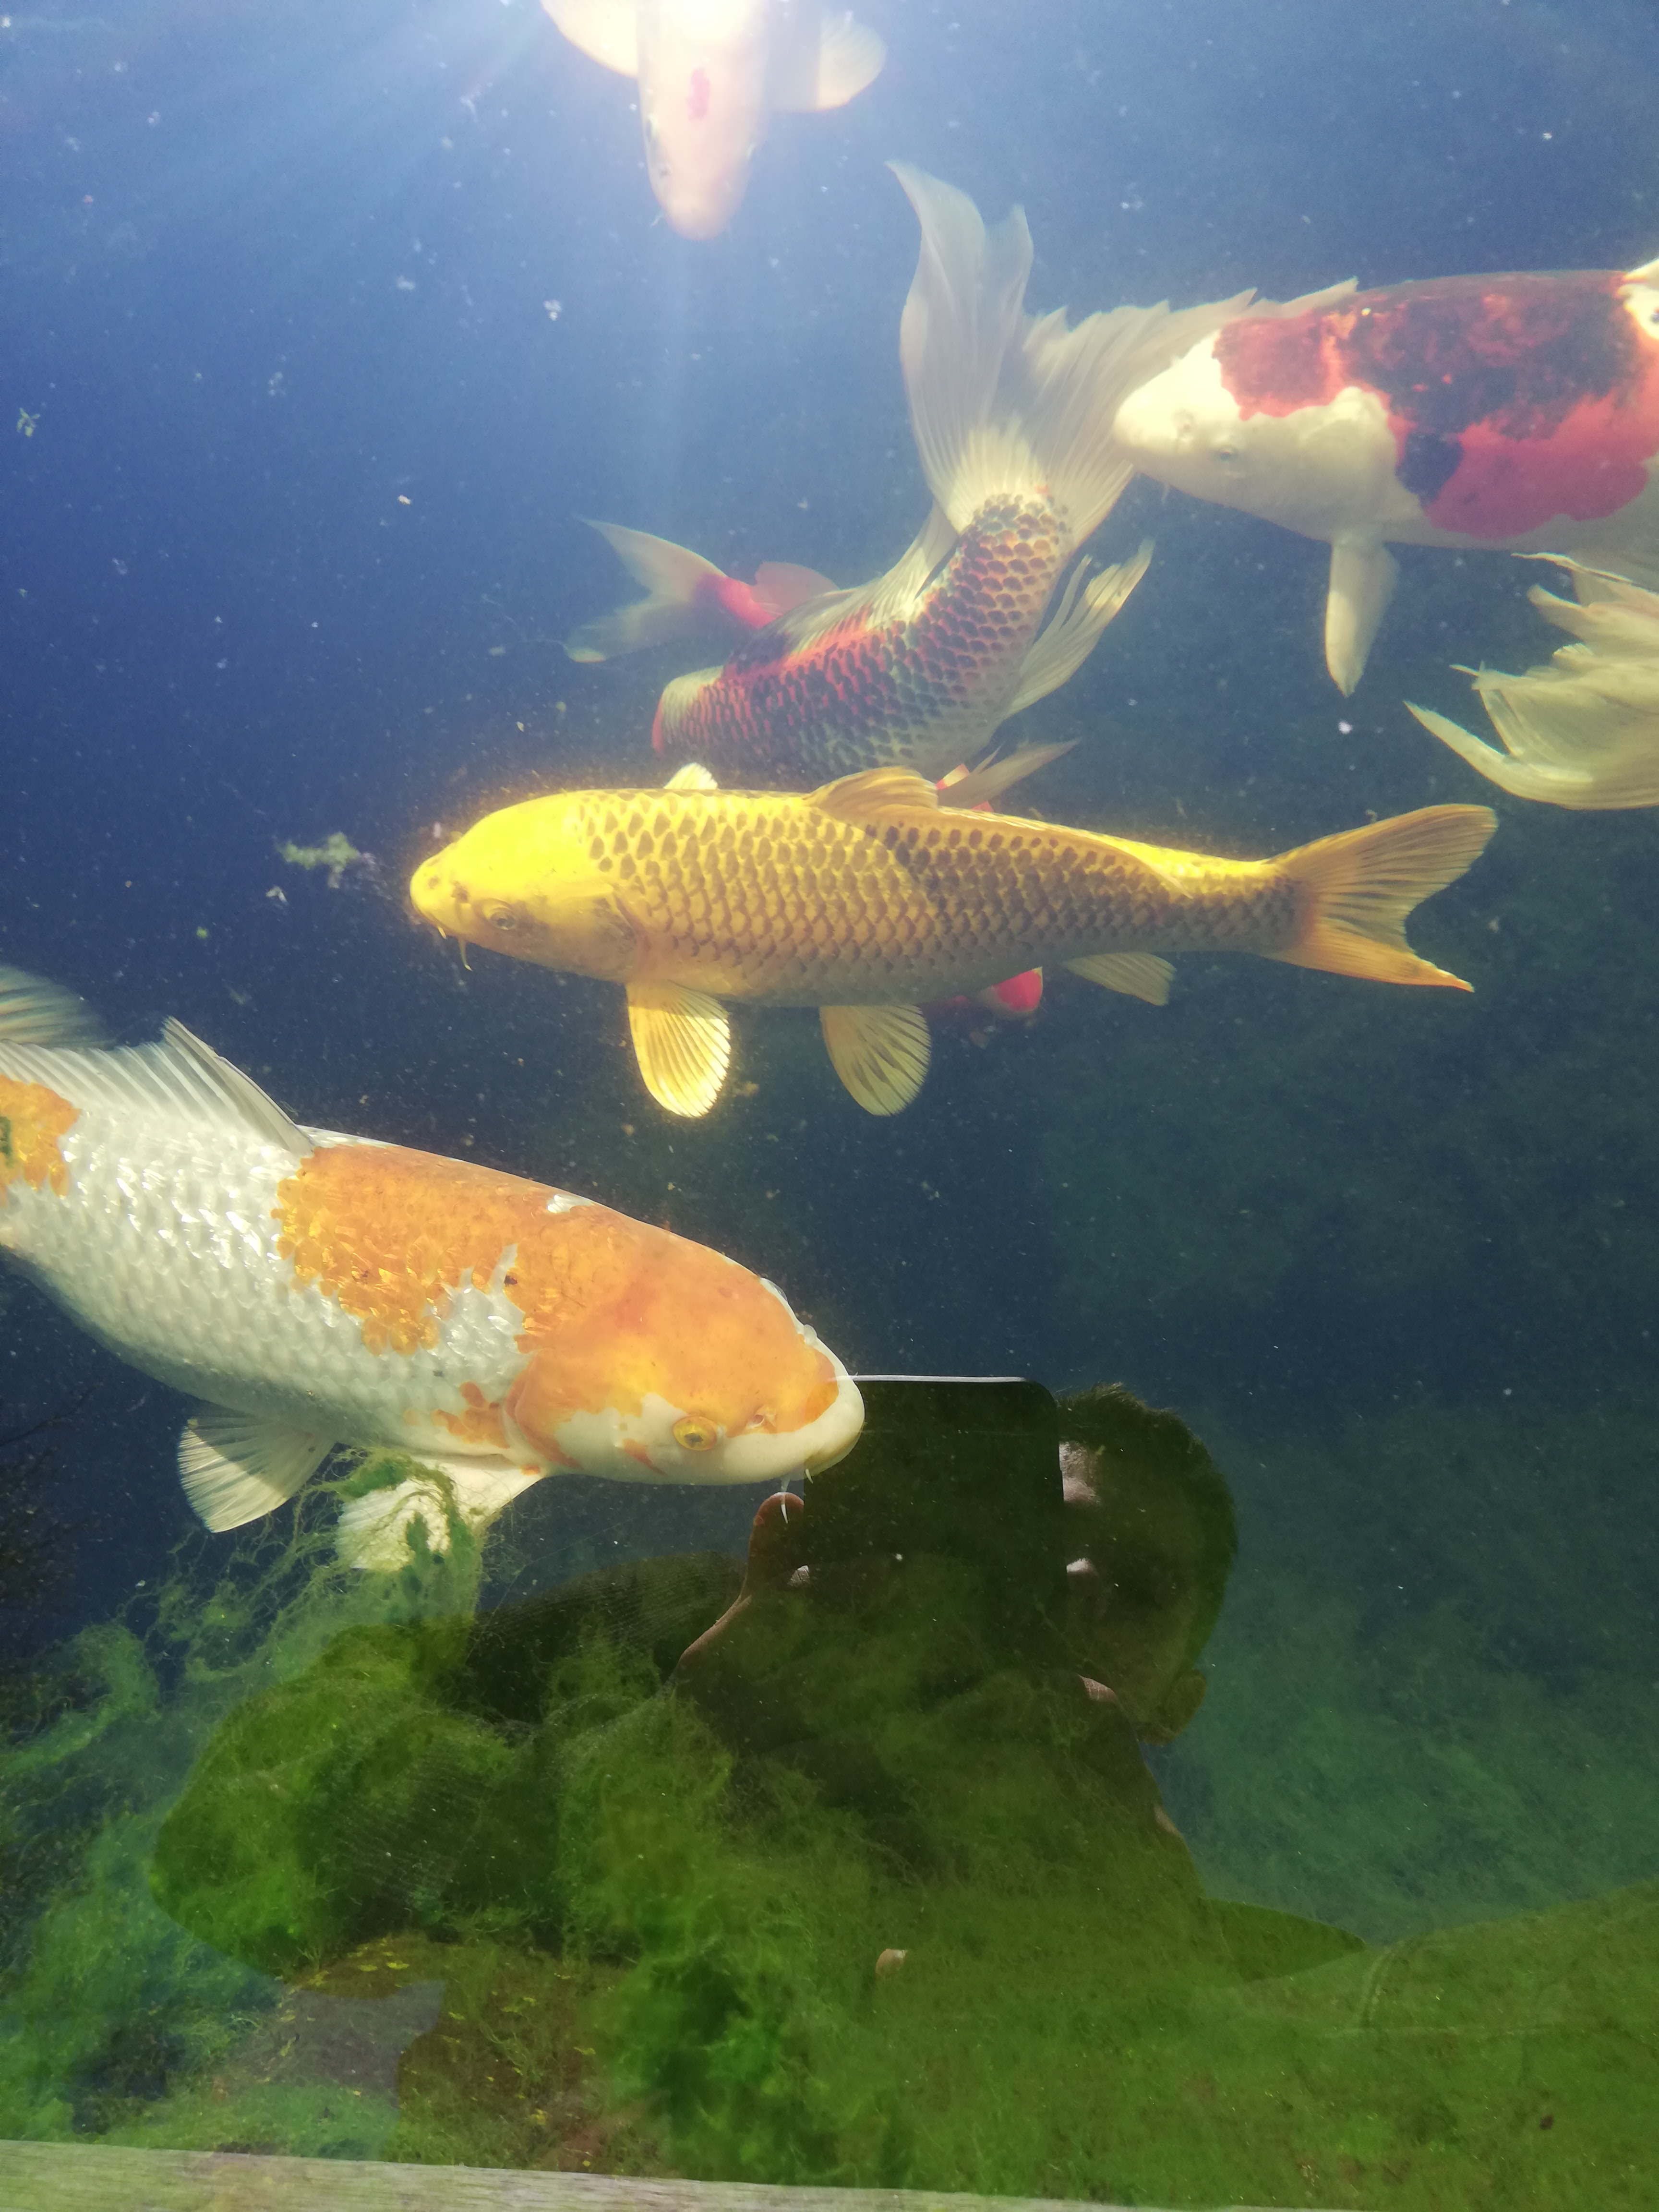Goldie: (382, 758, 1520, 1116)
Sparkle: (0, 1033, 899, 1581)
